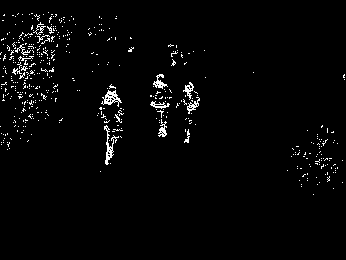person: (96, 83, 125, 170), (150, 72, 172, 139), (177, 82, 199, 145)
